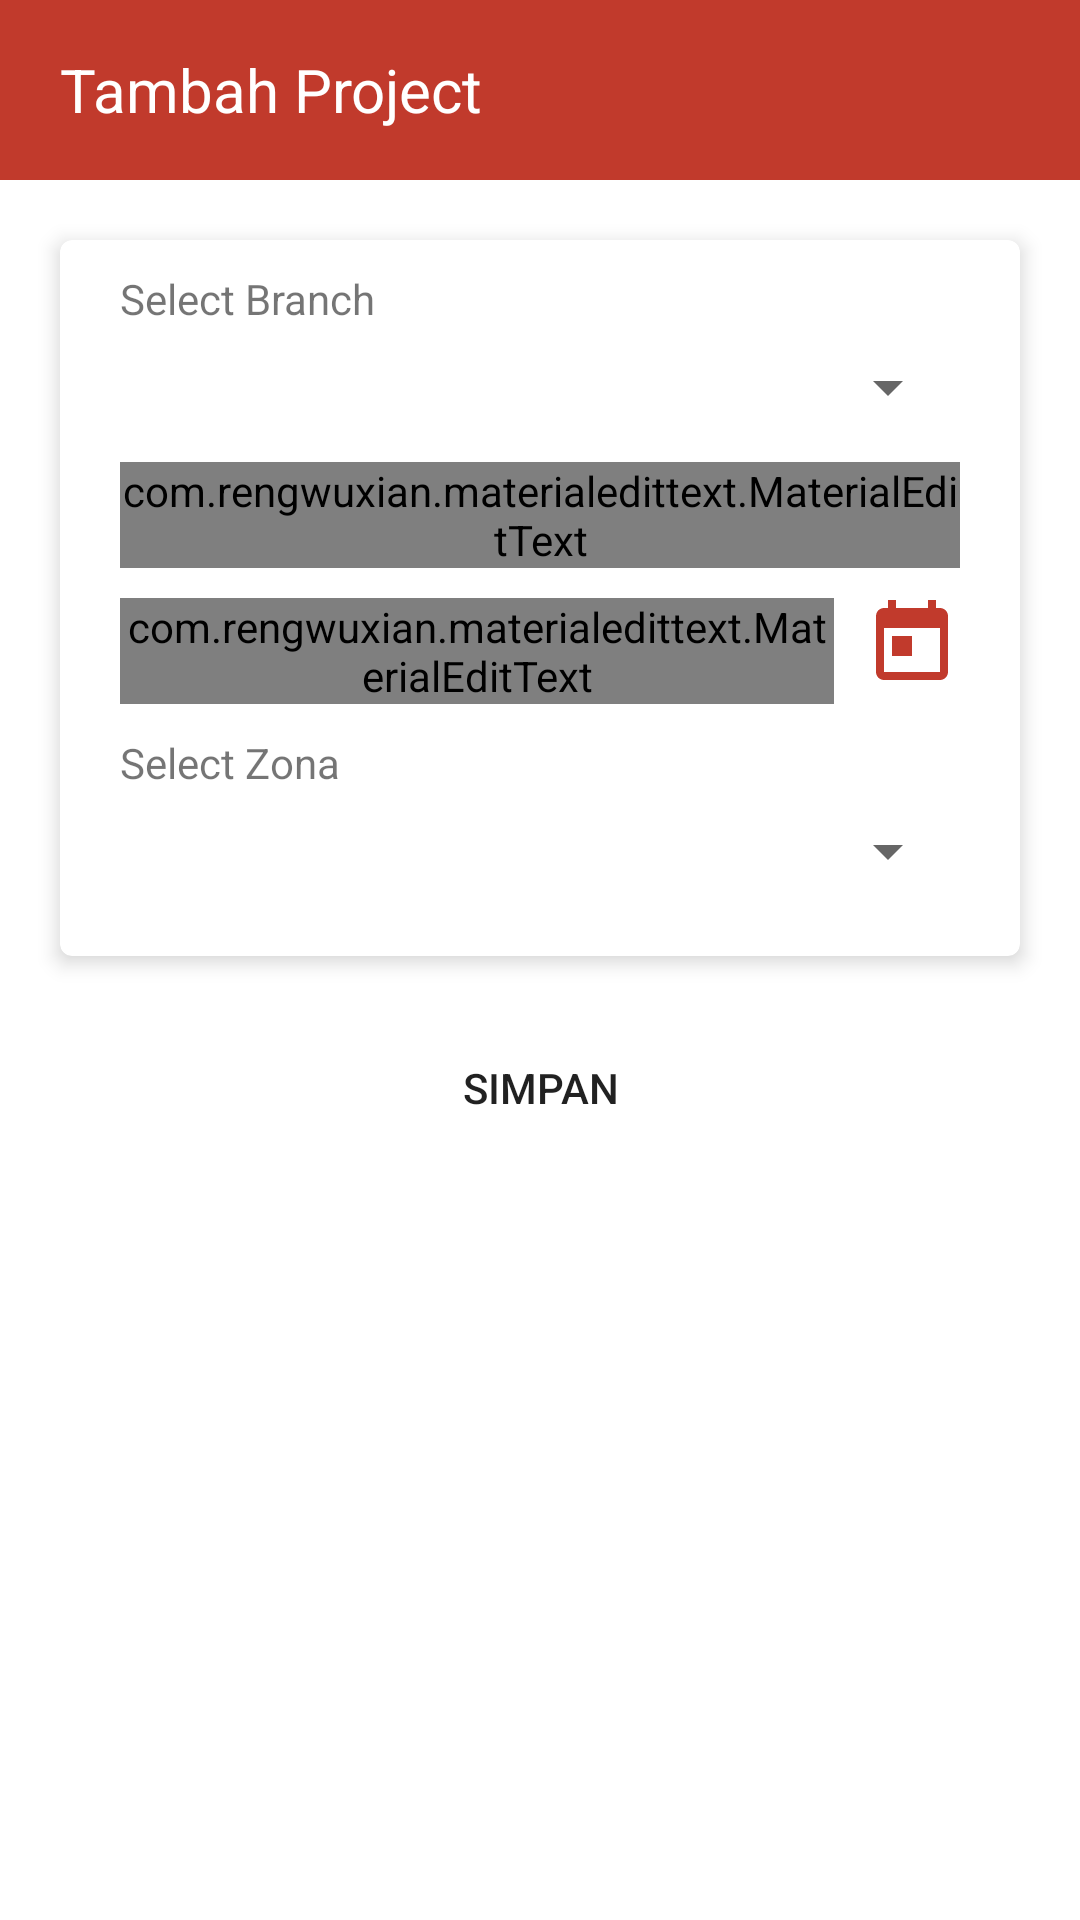

Screen size 1080w x 1920h. Icon name, then its center in pixels as (x=x, y=y):
date: (x=912, y=640)
